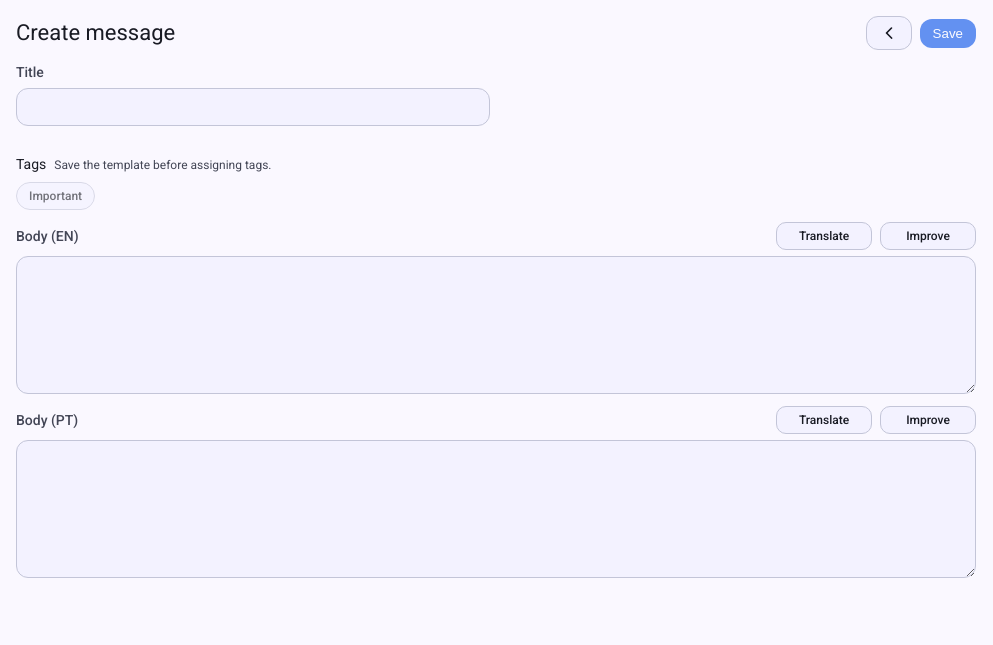
Test: TemplateEditComponent › shows an error message when creating a new template fails
This screenshot has width=993, height=645.
Type "Welcome" into the field named "title" at (253, 107), box [16,88,490,126]
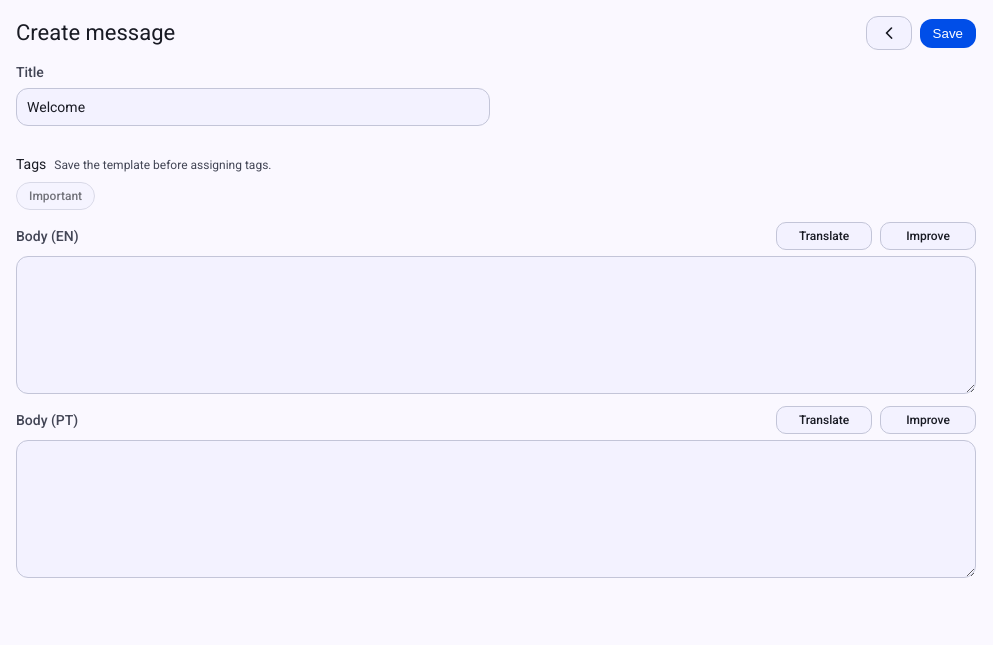
Click the button "Save" at (948, 33), box [920,18,976,48]
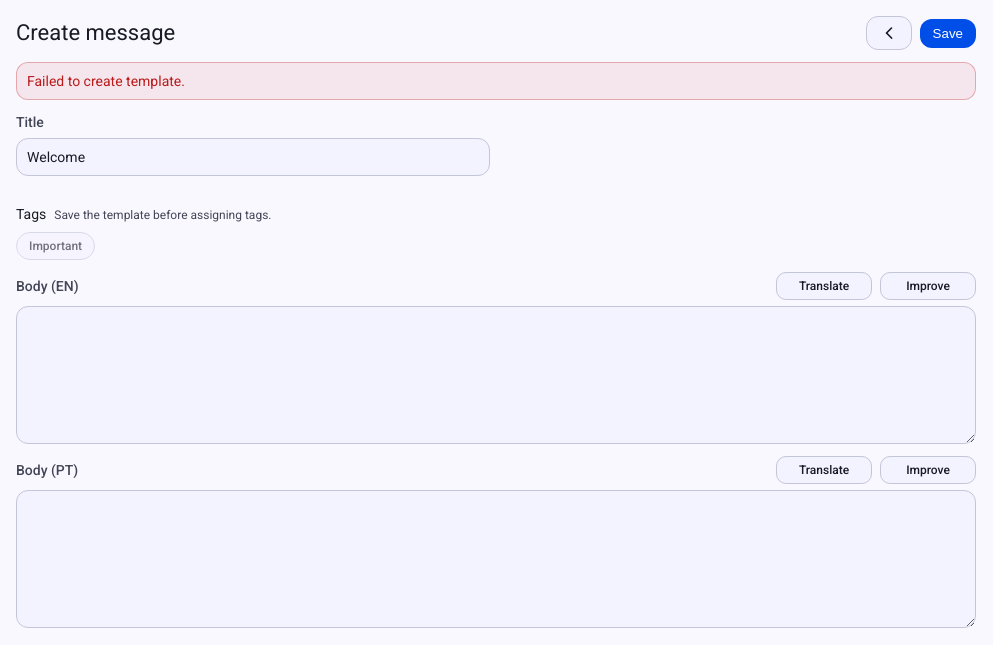
Check: the text with class "err" reads "Failed to create template.", box [27,73,185,89]
